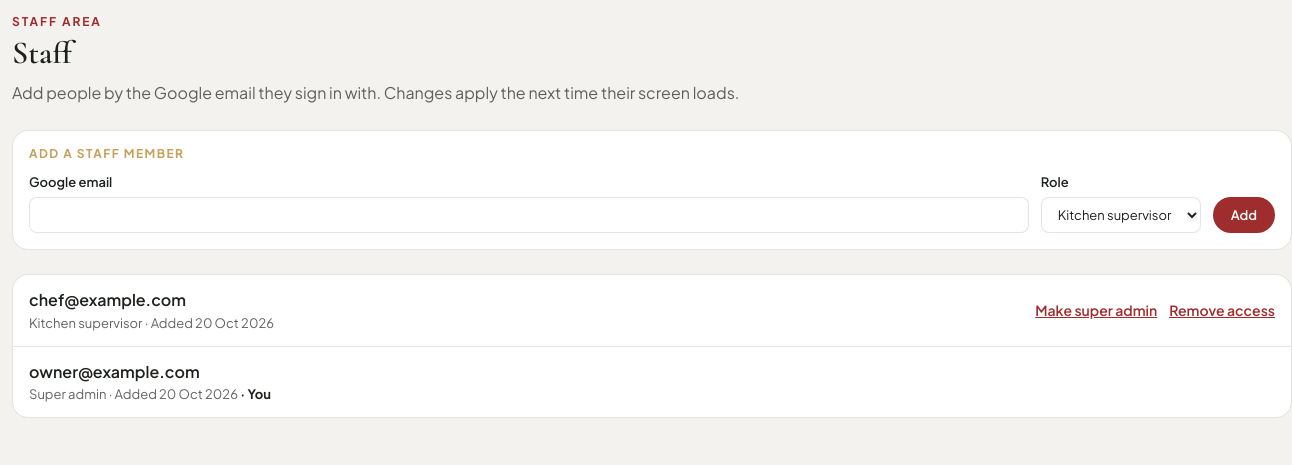
Test: AdminStaffView › shows an email already on the list next to the email box
Type "chef@example.com" into the field labelled "Google email". click: (529, 215)
box: x1=29 y1=197 x2=1029 y2=233
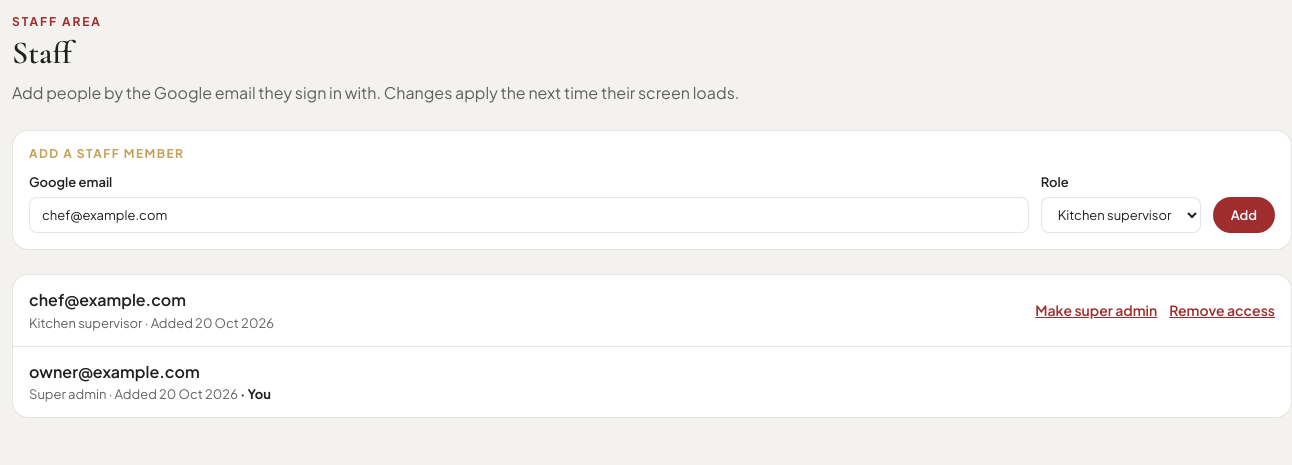
Select "Kitchen supervisor" in the dropdown labelled "Role". click: (1121, 215)
box: x1=1041 y1=197 x2=1201 y2=233
Submit the form with test id "add-staff", box x1=12 y1=130 x2=1291 y2=250
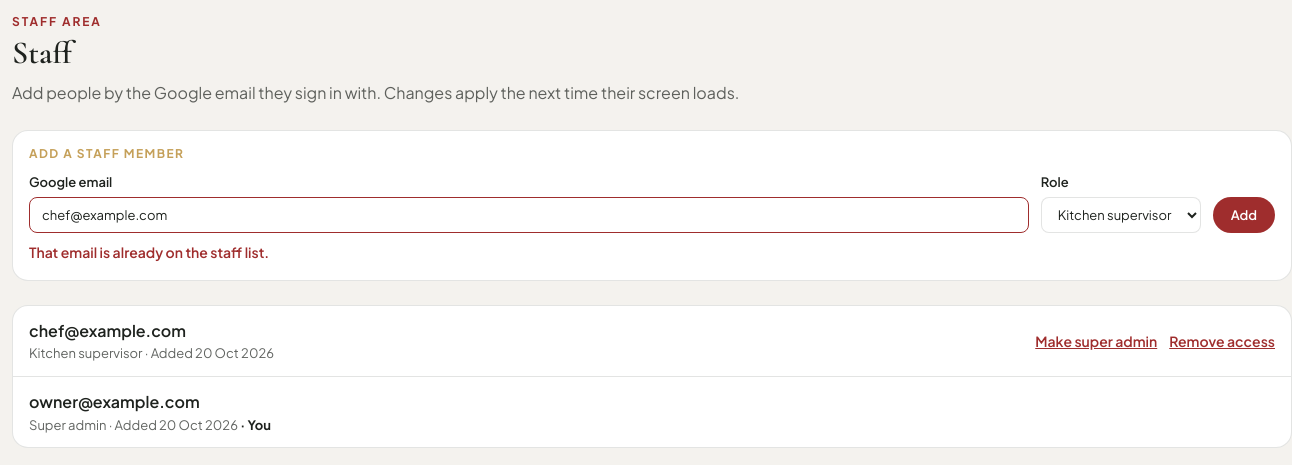
Expected: the text with test id "email-error" reads "That email is already on the staff list.", x1=29 y1=243 x2=269 y2=261
